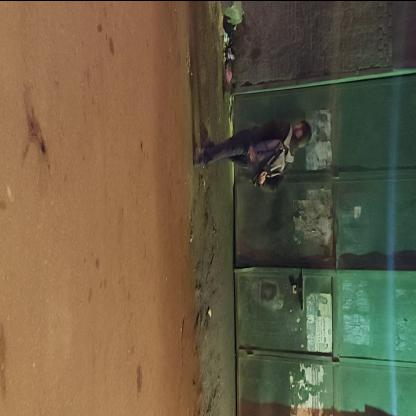long weapon: (252, 139, 286, 192)
